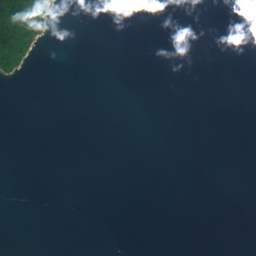Marine Debris: (117, 249, 121, 254)
